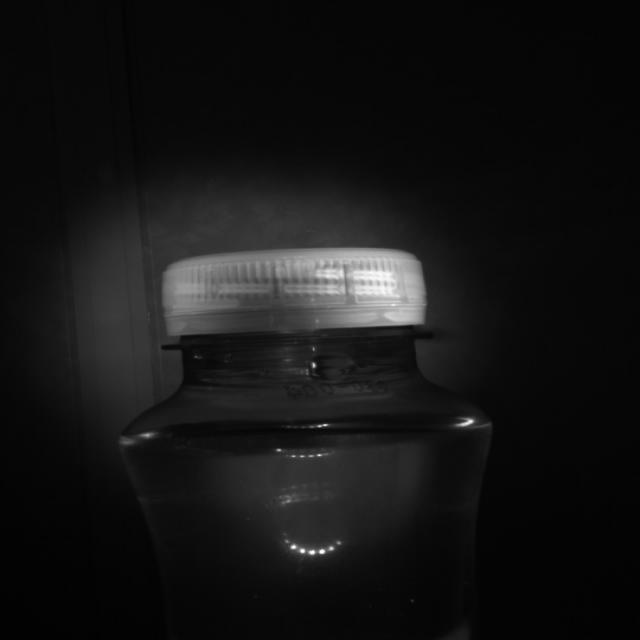Good: (147, 244, 434, 344)
